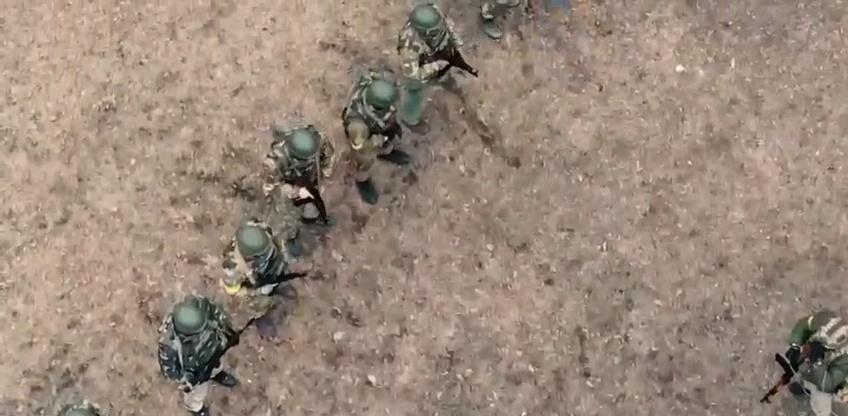person: (156, 293, 256, 416), (396, 6, 480, 136), (221, 216, 306, 338), (758, 310, 848, 416), (343, 68, 413, 204), (262, 122, 338, 228)
